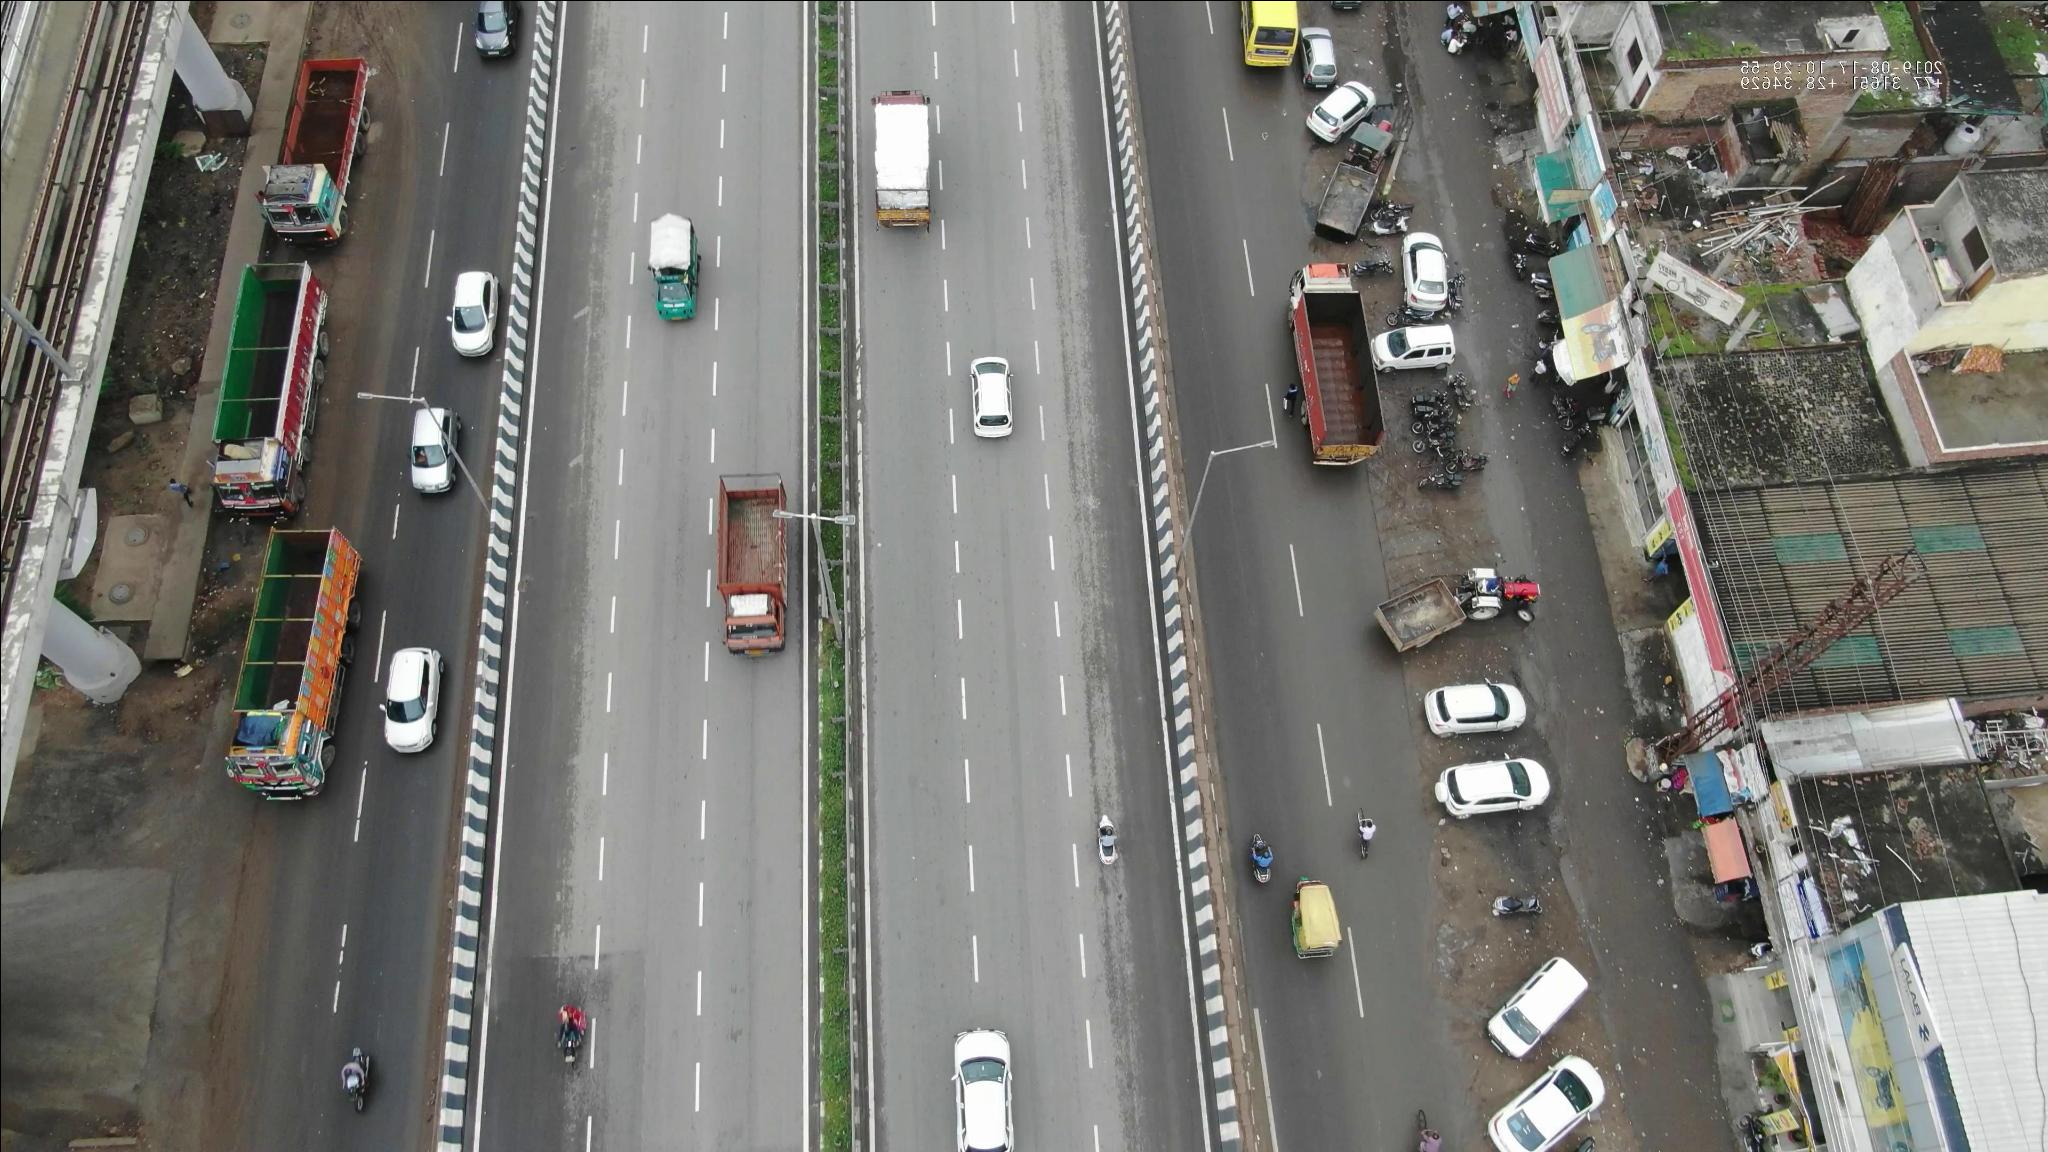Muddy_road: (221, 838, 288, 1003), (203, 1023, 259, 1149)
